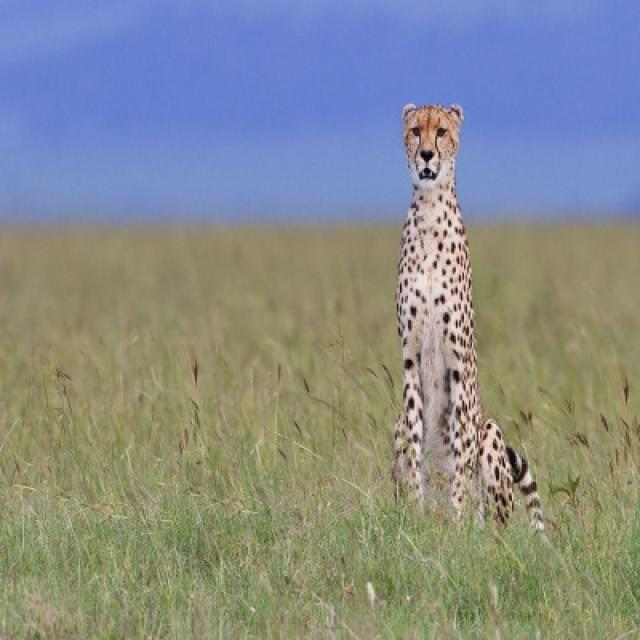Cheetah: (394, 106, 542, 530)
